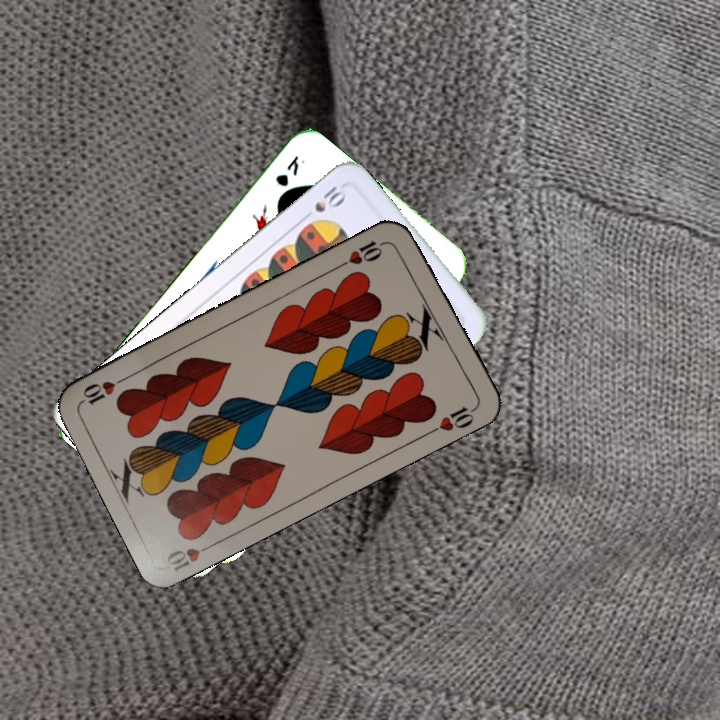GK: (271, 151, 302, 190)
H10: (161, 538, 220, 574), (336, 235, 391, 270)
S10: (298, 181, 350, 224)
